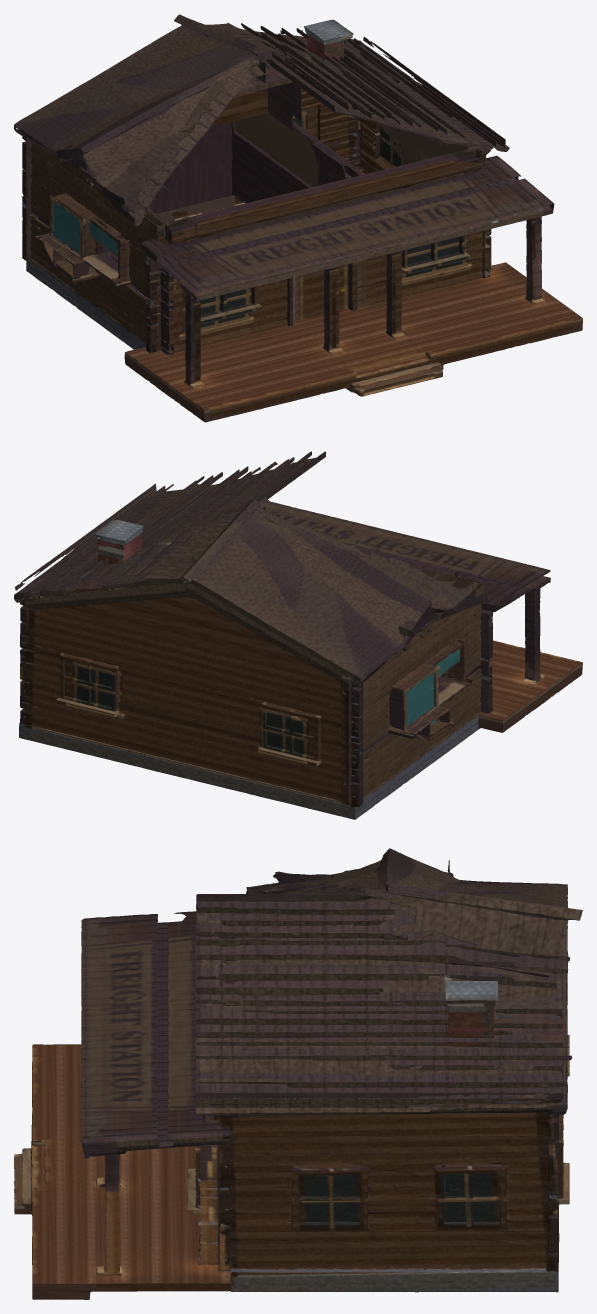
File: scene-1-objects-1-glbData-89e380331ac0.glb
The picture shows the model from 3 angles, top to bottom: view 1: azimuth 30°, elevation 25°; view 2: azimuth 150°, elevation 25°; view 3: azimuth 270°, elevation 25°; orthographic projection. The views are drawn at different scales.
Visible parts, largest first — view 1: Freight_Station_Optimized; view 2: Freight_Station_Optimized; view 3: Freight_Station_Optimized.
Part boxes in pixels (bbox=[...]): Freight_Station_Optimized: bbox=[14, 14, 582, 422]; Freight_Station_Optimized: bbox=[14, 451, 582, 819]; Freight_Station_Optimized: bbox=[14, 848, 582, 1299].
Bounding box in the file's own units: 11 × 6.5 × 11.
1 material, 1 textured.
